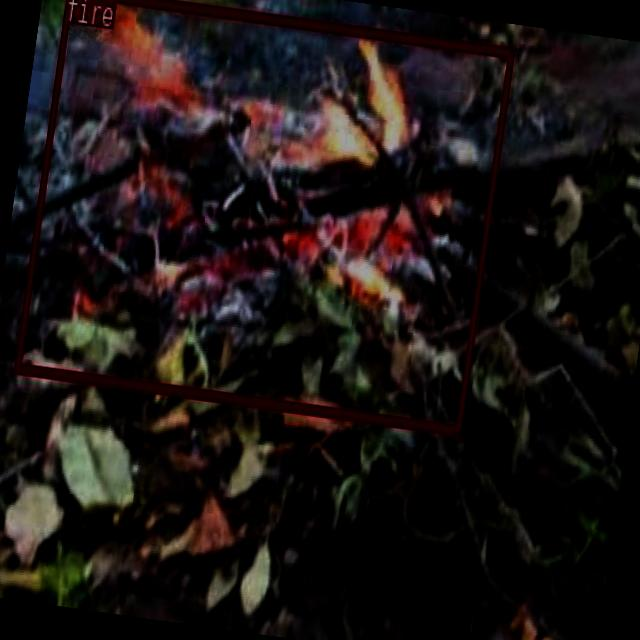fire: (13, 0, 514, 434)
